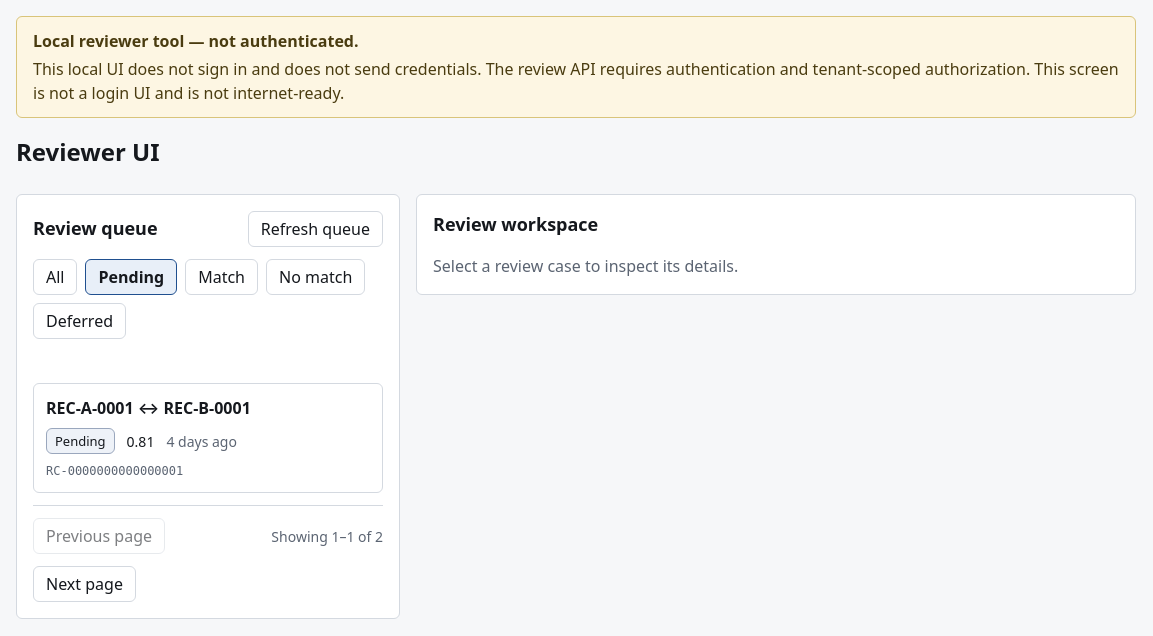
Scenario: a page that has fallen off the end of the queue › leaves a legitimately empty queue alone
Check: the list is shown, box [33, 383, 383, 493]
Click the button "Next page". click: (84, 584)
box: [33, 566, 136, 602]
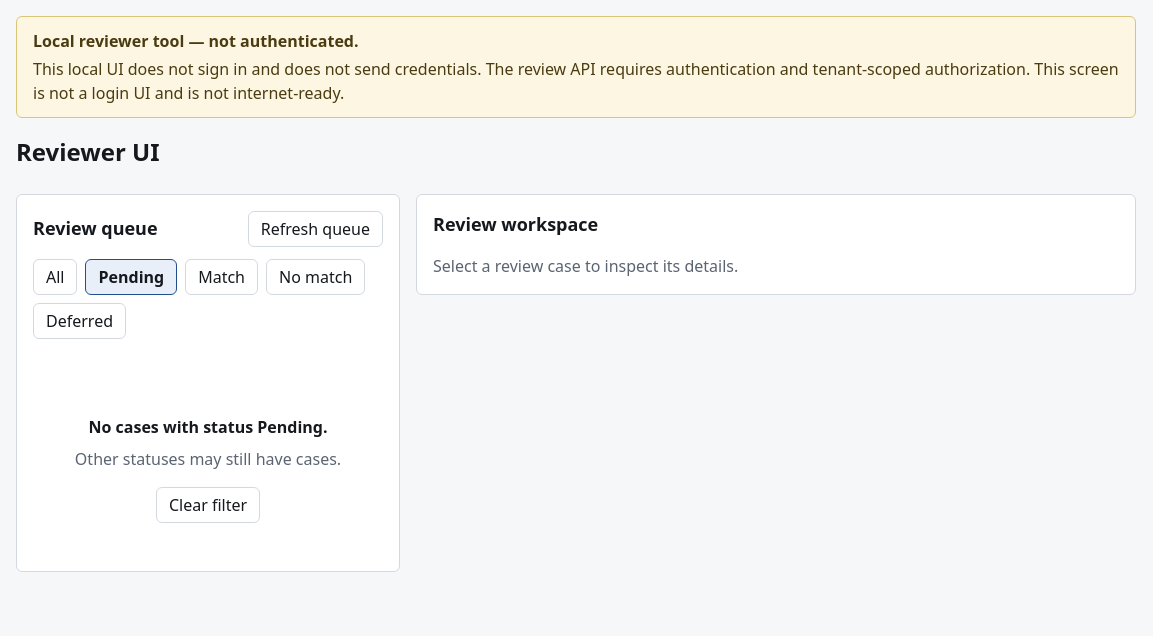
Check: the text "No cases with status Pending." is shown, box [88, 416, 328, 438]
